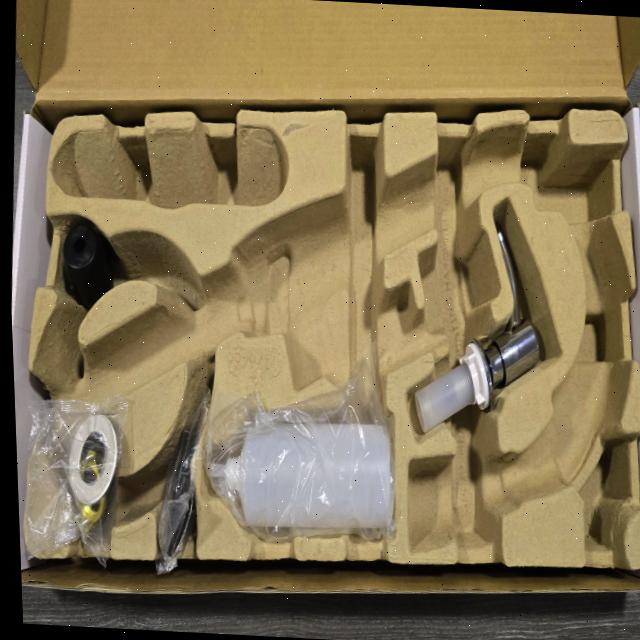1m: (30, 125, 626, 553)
2: (415, 228, 540, 435)
3: (211, 425, 395, 527)
4m: (53, 125, 289, 209)
5: (61, 216, 112, 306)
6: (26, 401, 131, 570)
7: (156, 383, 213, 574)
